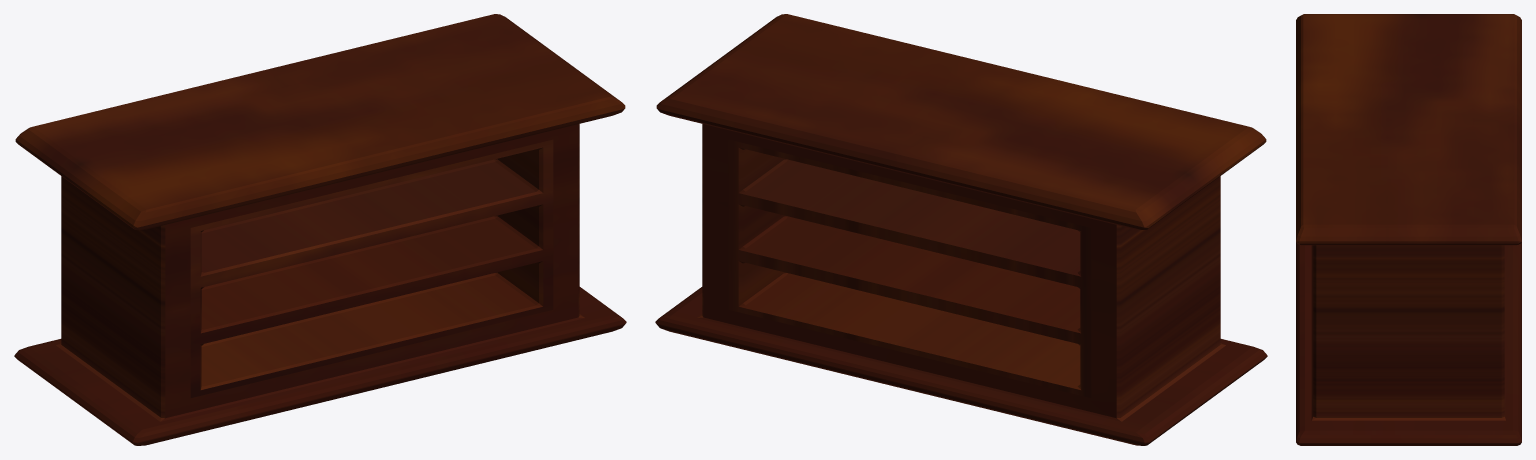
Rendered from small-book-shelf.glb.
The picture shows the model from 3 angles, left to right: view 1: azimuth 30°, elevation 25°; view 2: azimuth 150°, elevation 25°; view 3: azimuth 270°, elevation 25°; orthographic projection. The views are drawn at different scales.
Parts seen in each view (by area): view 1: Shelf01-col.002; view 2: Shelf01-col.002; view 3: Shelf01-col.002.
Part boxes in pixels (bbox=[...]): Shelf01-col.002: bbox=[14, 14, 626, 445]; Shelf01-col.002: bbox=[655, 14, 1267, 445]; Shelf01-col.002: bbox=[1296, 14, 1521, 445].
Size of the model in its own units: 4 by 1.82 by 1.7.
Materials: 1 (1 with a texture image).
